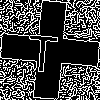T: (25, 25, 61, 74)
